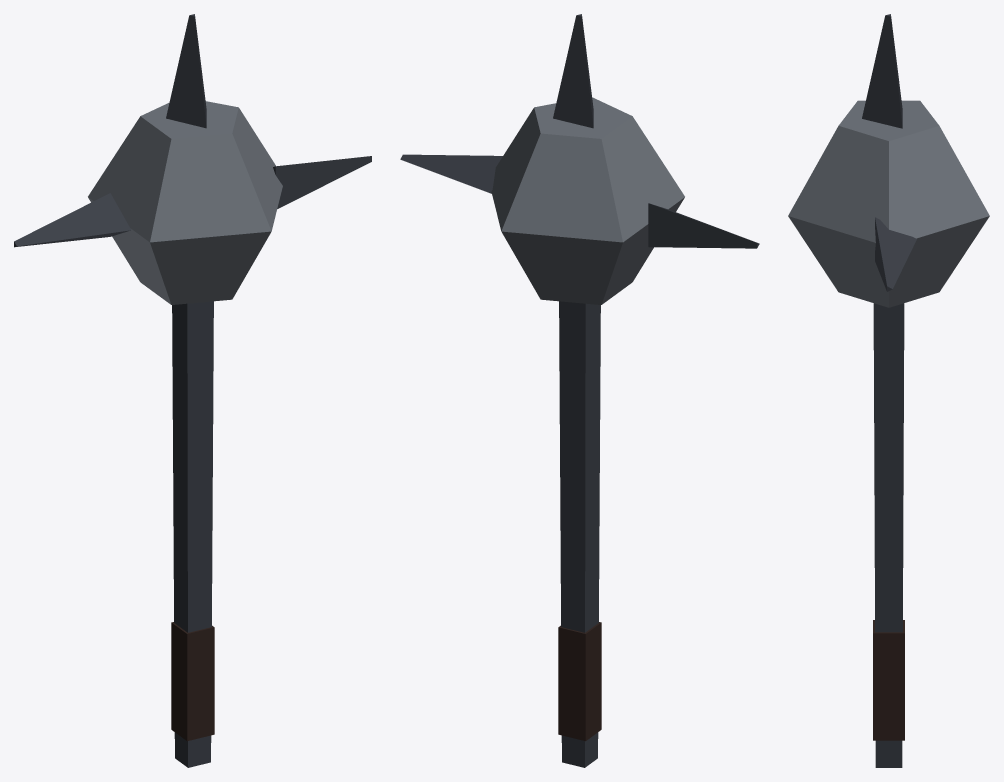
The model's file is SM_Prop_WardenFlail_LQ.glb.
The picture shows the model from 3 angles, left to right: view 1: azimuth 30°, elevation 25°; view 2: azimuth 150°, elevation 25°; view 3: azimuth 270°, elevation 25°; orthographic projection.
Parts seen in each view (by area): view 1: SM_Prop_WardenFlail_LQ; view 2: SM_Prop_WardenFlail_LQ; view 3: SM_Prop_WardenFlail_LQ.
Boxes of the visible parts, x1,y1,x2,y2 form: SM_Prop_WardenFlail_LQ: (14,14,371,767); SM_Prop_WardenFlail_LQ: (400,14,759,767); SM_Prop_WardenFlail_LQ: (788,14,989,767).
Size of the model in its own units: 0.66 by 1.32 by 0.3234.
Materials: 1 (1 with a texture image).
